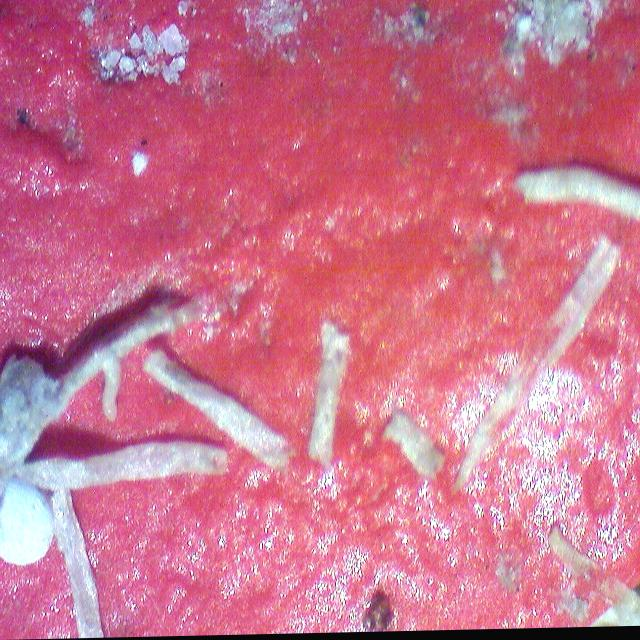microplastic: (0, 0, 640, 628)
